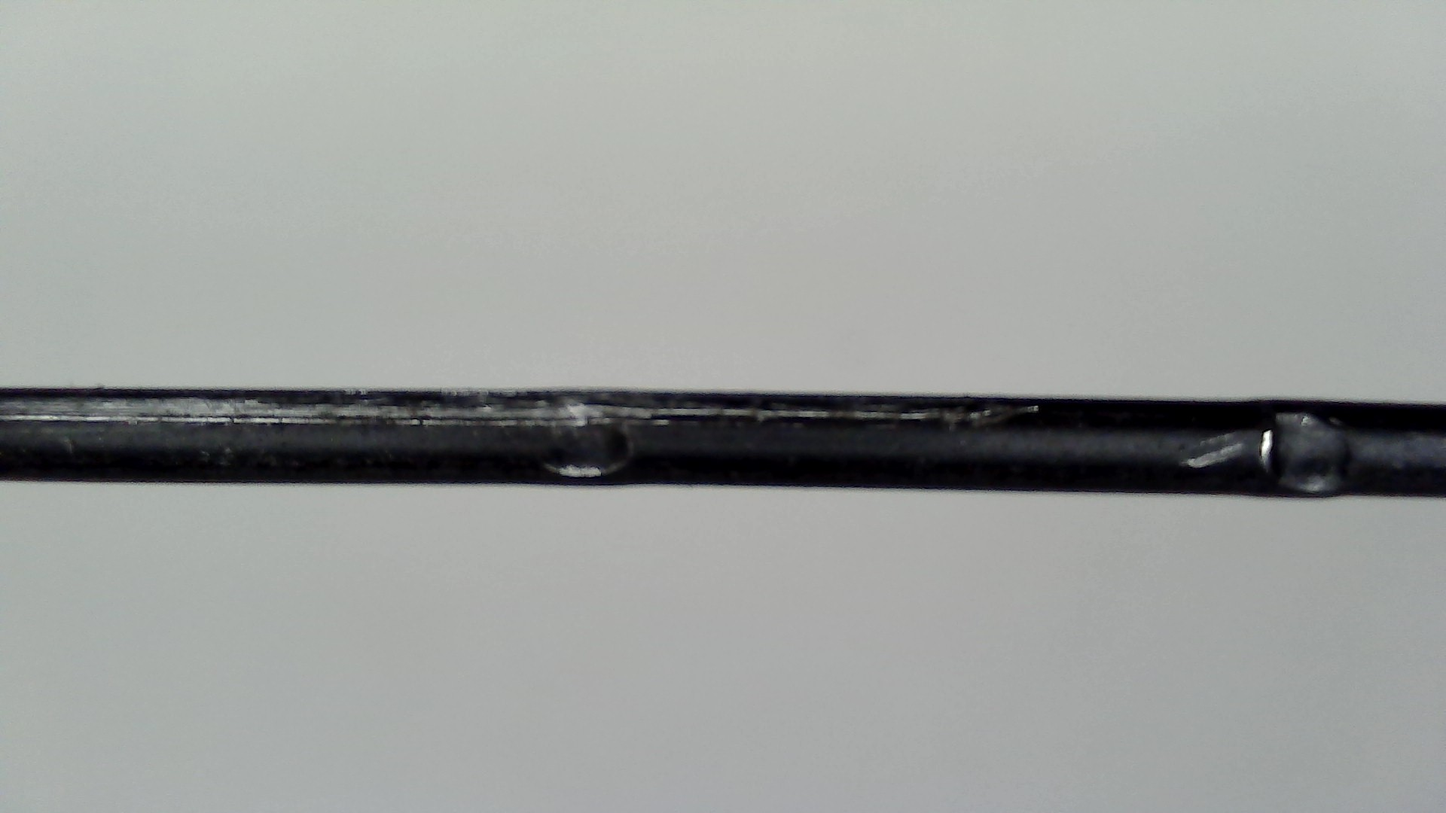defect: (7, 387, 1038, 424), (1175, 398, 1374, 486), (522, 434, 633, 480)
